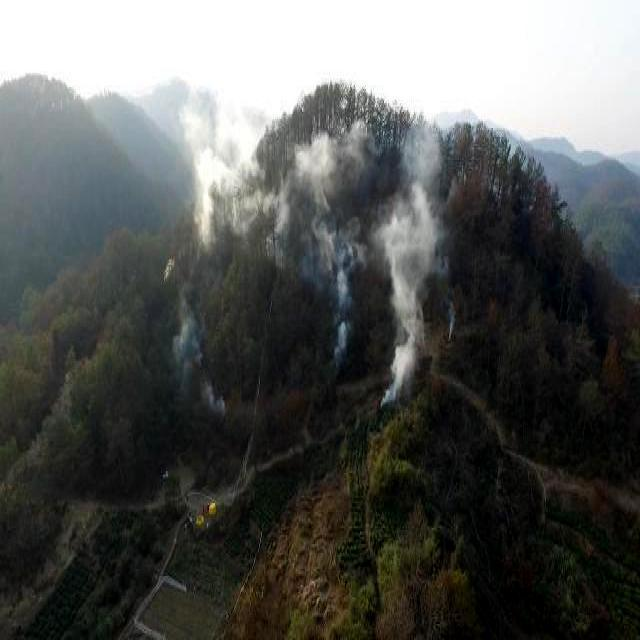Smoke: (289, 88, 446, 405), (184, 62, 283, 270)
